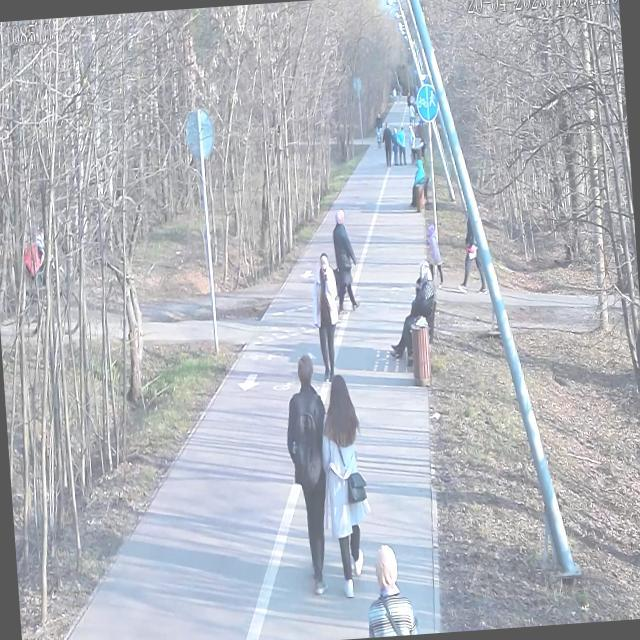person: (281, 354, 336, 596), (316, 372, 370, 598), (362, 541, 421, 637), (308, 250, 344, 383), (330, 208, 360, 314)
